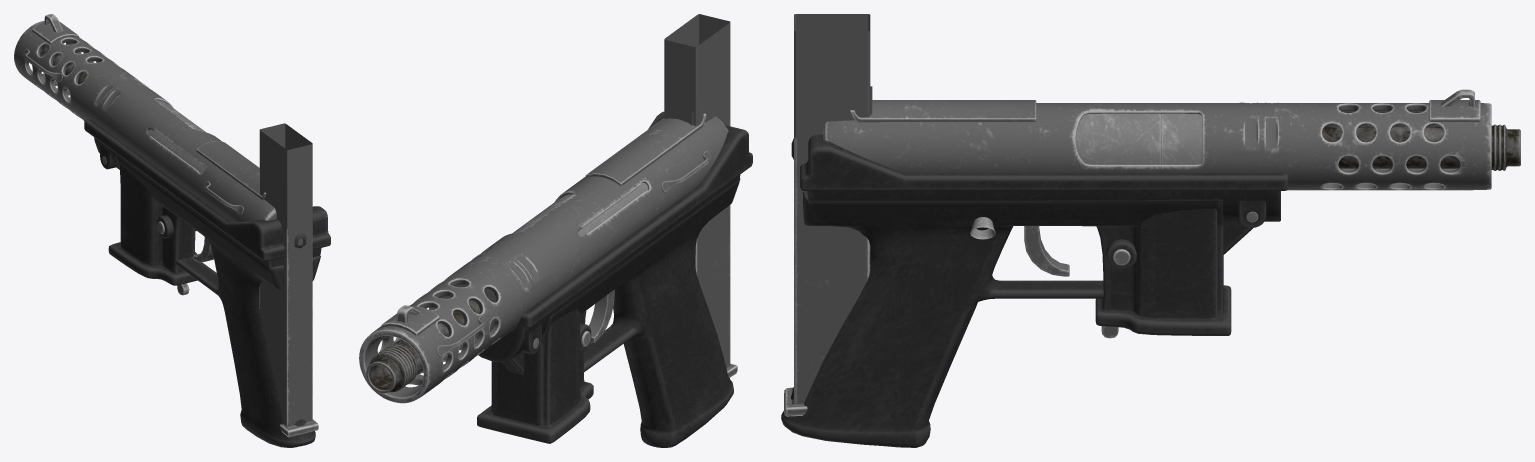
3 views of the same model, side by side, from view 1: azimuth 30°, elevation 25°; view 2: azimuth 150°, elevation 25°; view 3: azimuth 270°, elevation 25° (orthographic). The views are drawn at different scales.
Visible parts, largest first — view 1: Body, Magazine; view 2: Body, Magazine; view 3: Body, Magazine.
Boxes of the visible parts, <box> form: Body: <box>14,14,330,447</box>; Magazine: <box>259,123,318,437</box>; Body: <box>359,111,752,447</box>; Magazine: <box>664,14,737,377</box>; Body: <box>781,89,1520,447</box>; Magazine: <box>784,14,872,416</box>.
Size of the model in its own units: 0.066 by 0.282 by 0.451.
Materials: 1 (1 with a texture image).
